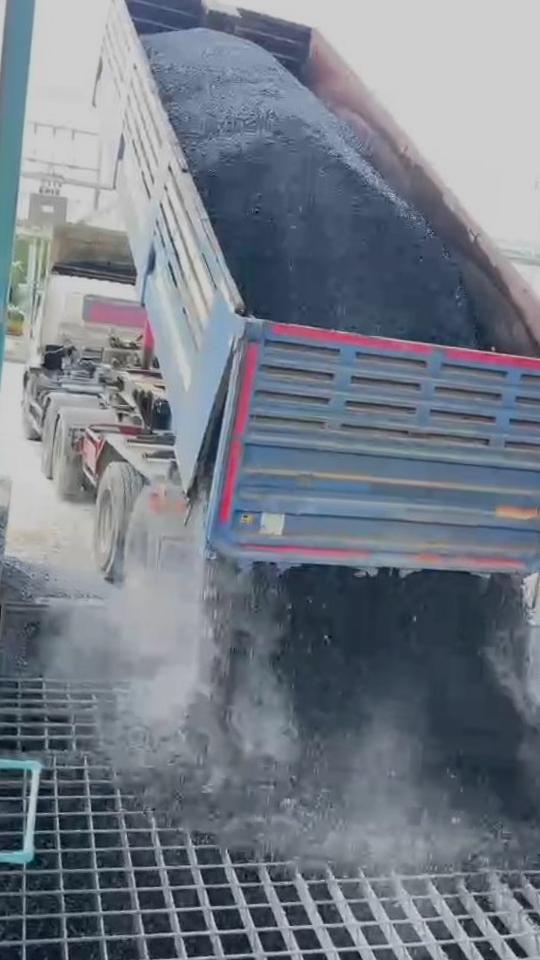gravel: (157, 567, 540, 867), (142, 30, 477, 345), (0, 506, 7, 577)
